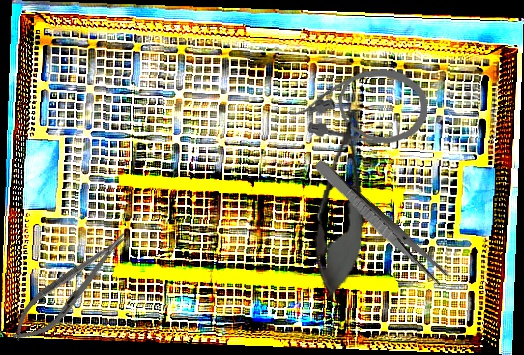Cannula: (286, 64, 429, 147)
Dressing Forceps: (309, 157, 451, 288)
Micro Scissor: (306, 89, 378, 304)
Needle Holder: (1, 221, 140, 354)
